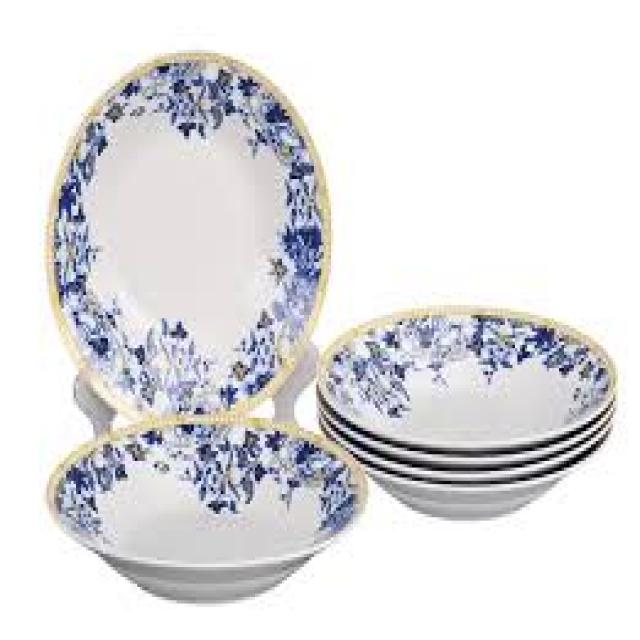Plate: (40, 44, 326, 413), (41, 416, 372, 612), (334, 295, 631, 464)
